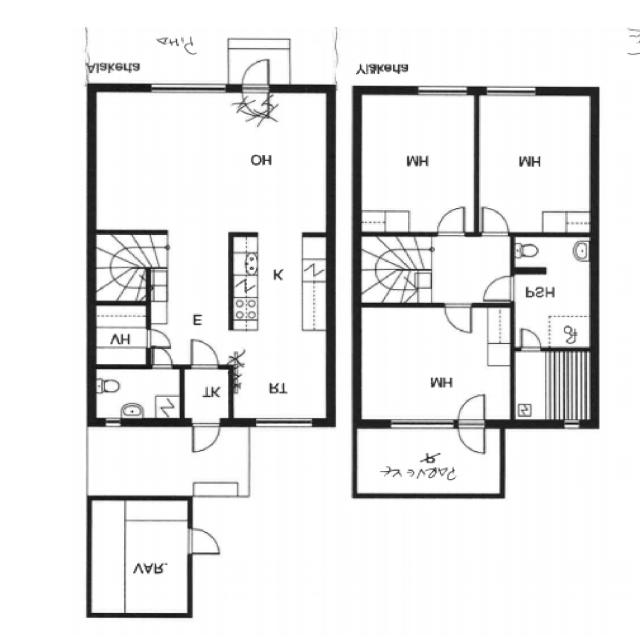door: (182, 342, 228, 419), (453, 390, 491, 458), (239, 55, 274, 122), (187, 417, 223, 457), (440, 300, 476, 338), (182, 525, 226, 556), (432, 203, 468, 239), (186, 336, 222, 372), (477, 202, 511, 240), (479, 273, 517, 304), (516, 324, 543, 354), (148, 346, 174, 371), (144, 327, 173, 349)
window: (142, 78, 228, 99), (382, 413, 457, 432), (246, 412, 320, 431), (480, 81, 544, 100), (409, 82, 474, 99), (558, 416, 586, 432), (100, 416, 126, 430)
zone: (93, 88, 332, 228), (228, 234, 330, 423), (355, 304, 512, 424), (356, 91, 477, 235), (474, 91, 594, 234), (88, 496, 192, 617), (352, 424, 503, 496), (511, 268, 593, 349), (512, 348, 595, 424), (92, 368, 182, 422), (90, 302, 149, 365), (510, 236, 595, 274), (182, 365, 230, 419)
